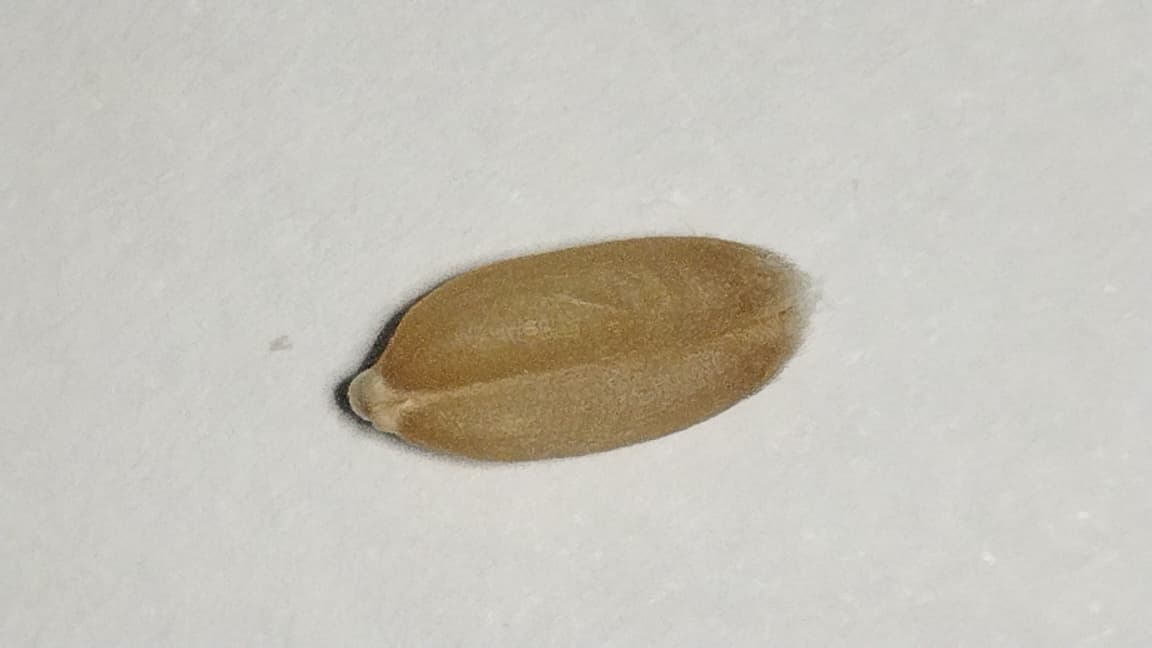healthy: (347, 233, 810, 462)
